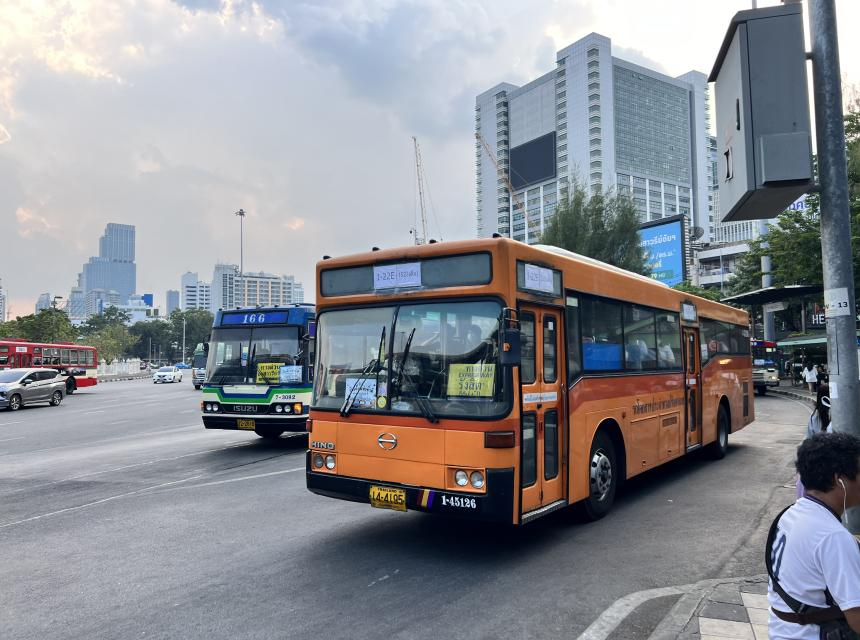BMTA-bus: (305, 238, 758, 529), (200, 306, 314, 443)
Bus Line Number: (368, 262, 428, 291), (526, 260, 560, 294), (241, 311, 271, 325)
Bus Side Number: (439, 492, 480, 513), (272, 392, 298, 402)
Destination Sign: (446, 361, 500, 402), (253, 362, 284, 384)
